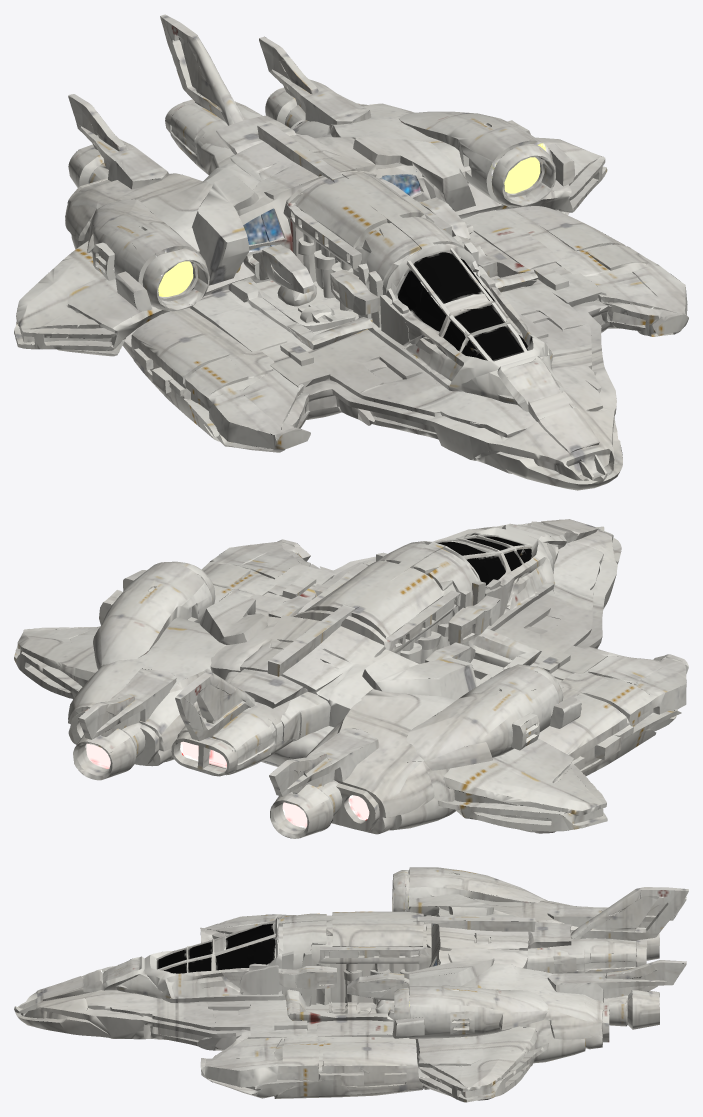
File: spaceship_colaid1_50k.glb
3 renders of one model, top to bottom at view 1: azimuth 30°, elevation 25°; view 2: azimuth 150°, elevation 25°; view 3: azimuth 270°, elevation 25°, orthographic. The views are drawn at different scales.
Parts seen in each view (by area): view 1: Spaceship_cool_AI1.001_gameasset_Spaceship_cool_AI1.001_game; view 2: Spaceship_cool_AI1.001_gameasset_Spaceship_cool_AI1.001_game; view 3: Spaceship_cool_AI1.001_gameasset_Spaceship_cool_AI1.001_game.
Boxes of the visible parts, bbox=[...] form: Spaceship_cool_AI1.001_gameasset_Spaceship_cool_AI1.001_game: bbox=[14, 14, 688, 490]; Spaceship_cool_AI1.001_gameasset_Spaceship_cool_AI1.001_game: bbox=[14, 519, 688, 838]; Spaceship_cool_AI1.001_gameasset_Spaceship_cool_AI1.001_game: bbox=[14, 867, 688, 1102].
Size of the model in its own units: 405 by 131 by 514.
Materials: 1 (1 with a texture image).
